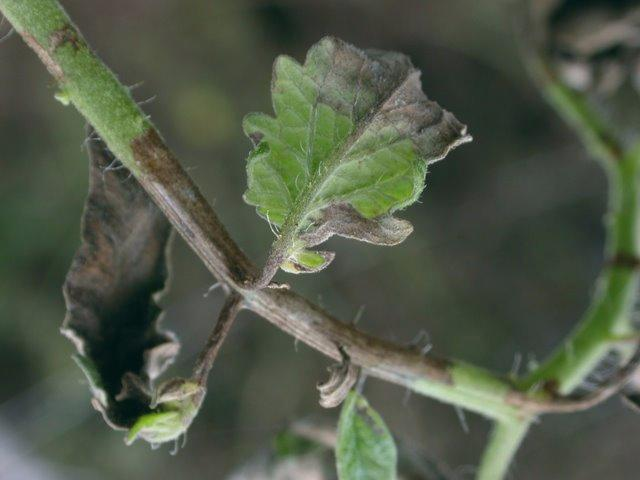Tomato leaf late blight: (232, 25, 473, 270)
